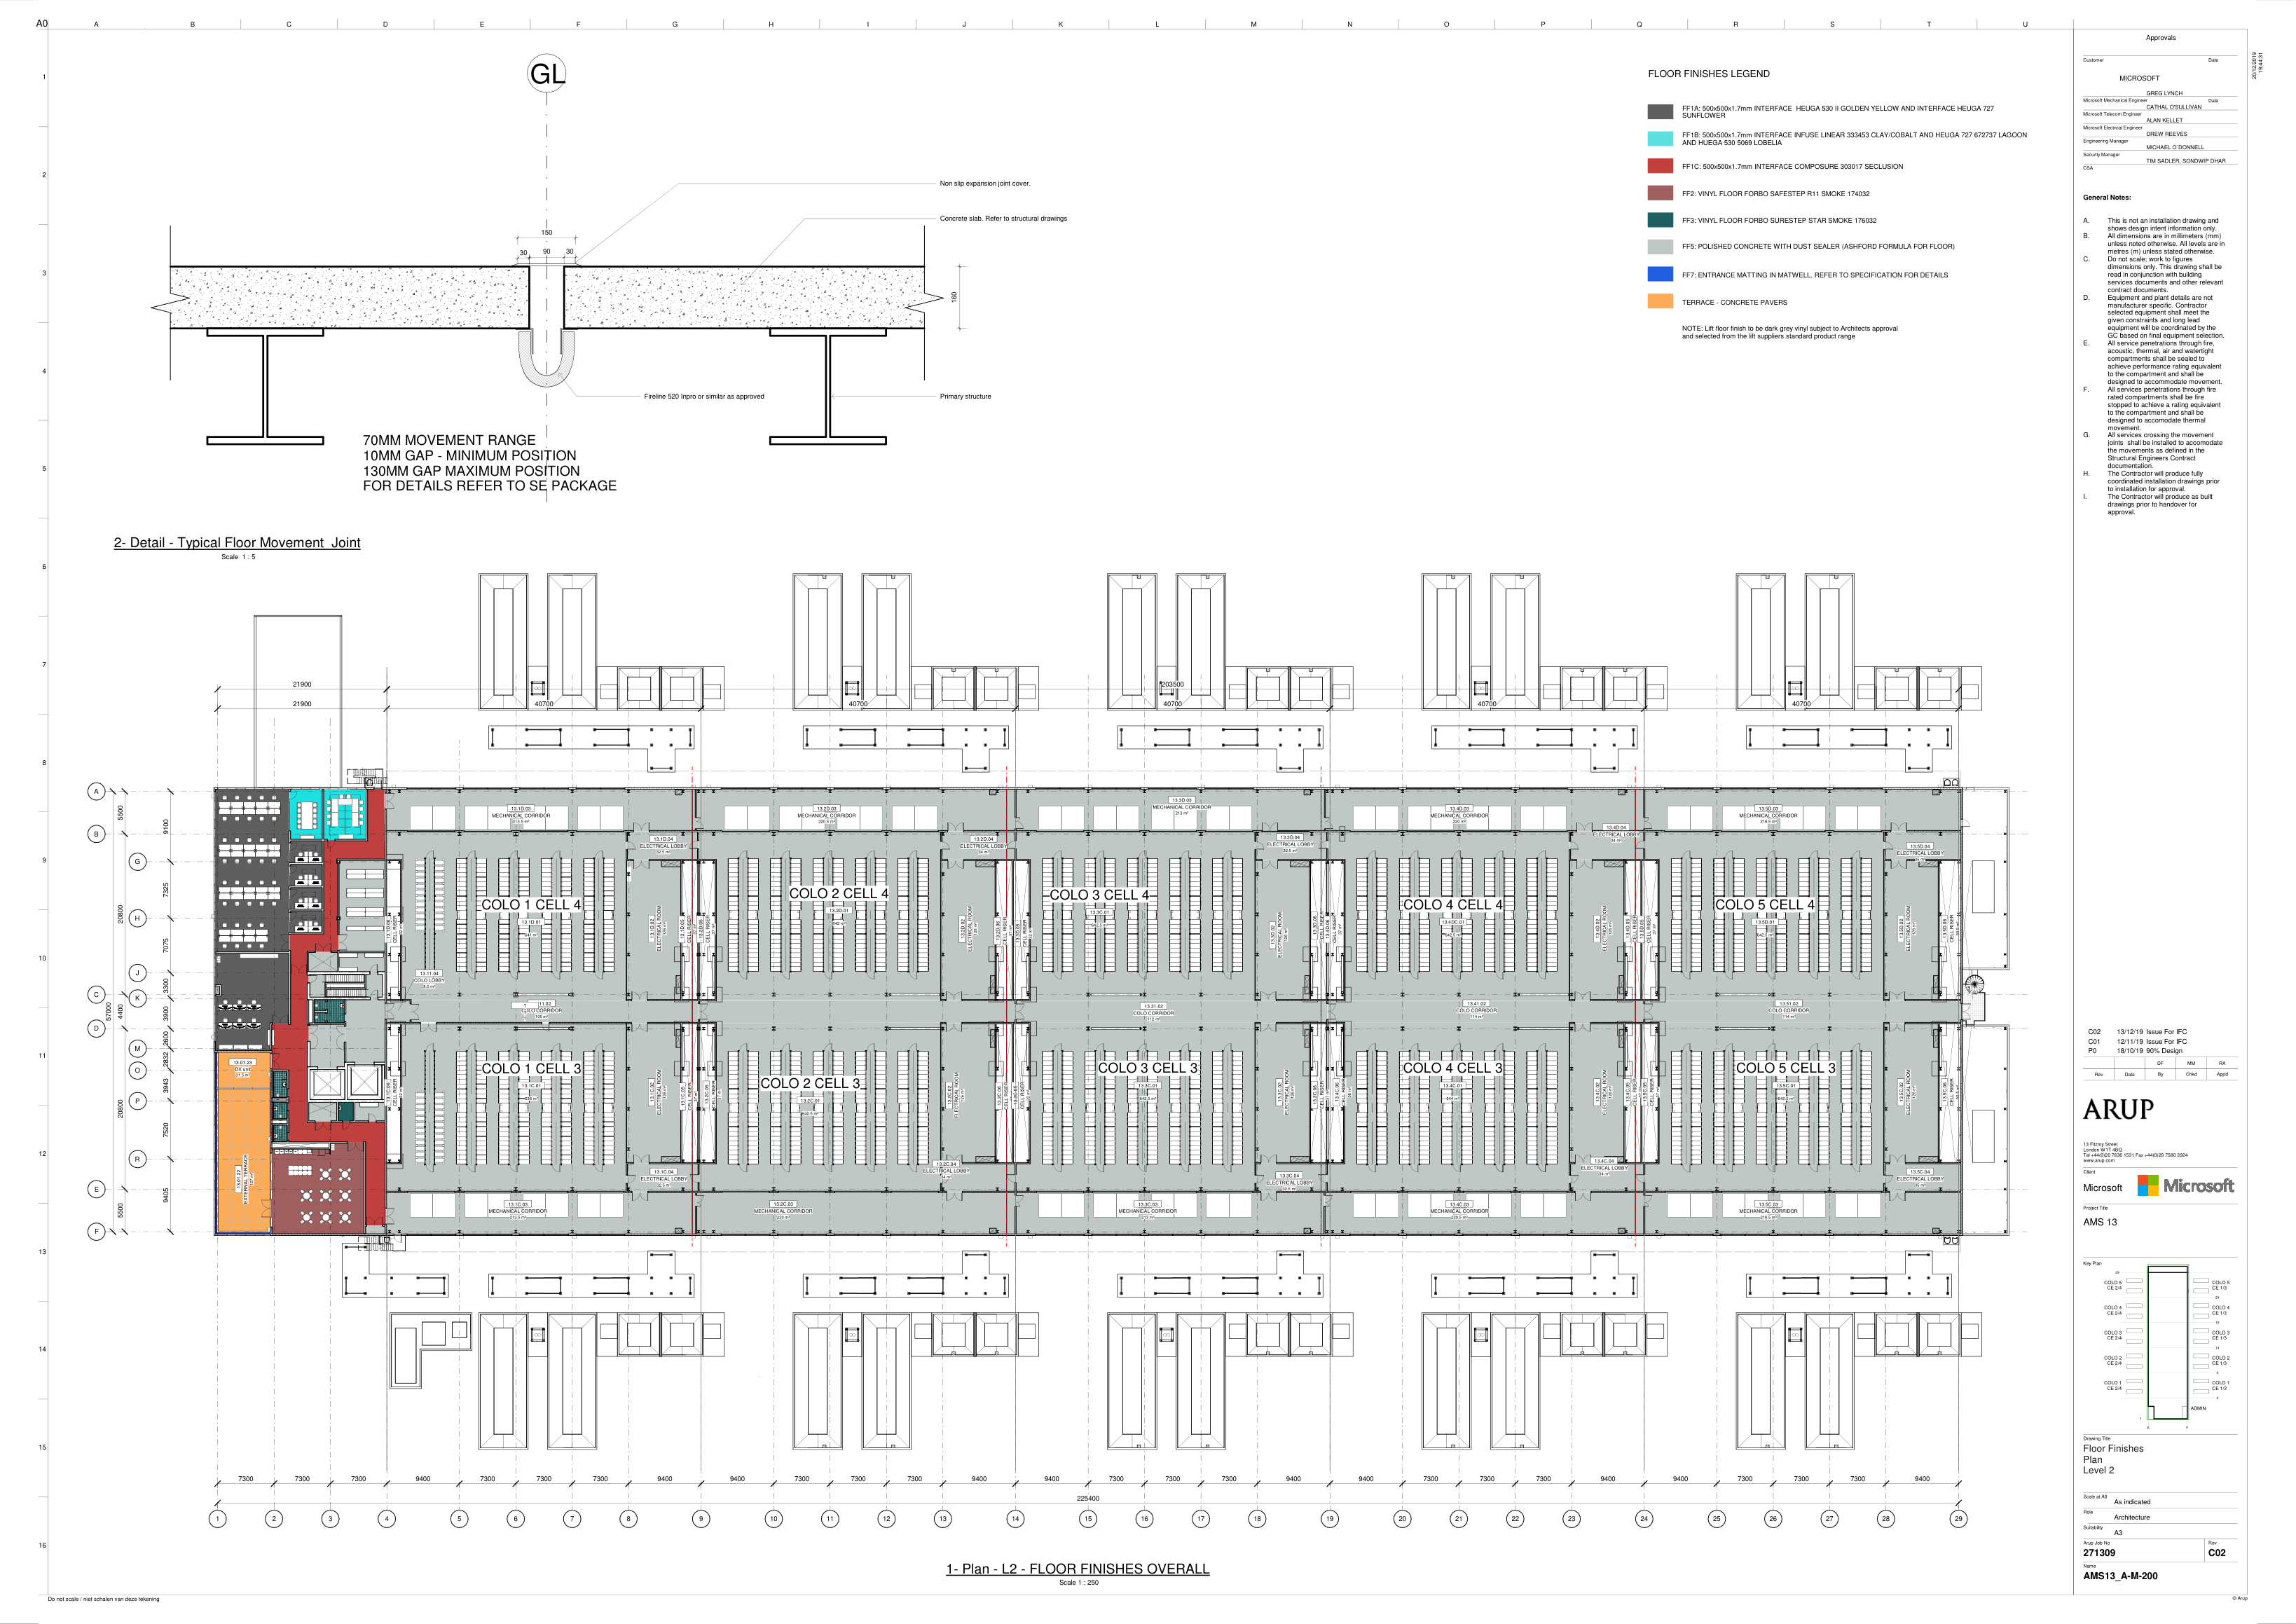Legend: (1645, 66, 2030, 341)
